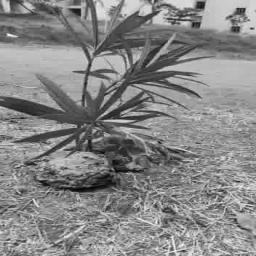OLEANDER: (0, 0, 210, 166)
